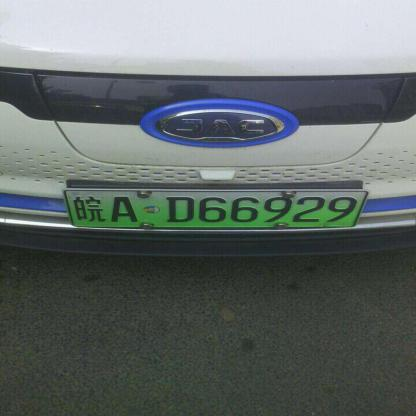lp: (62, 189, 369, 227)
